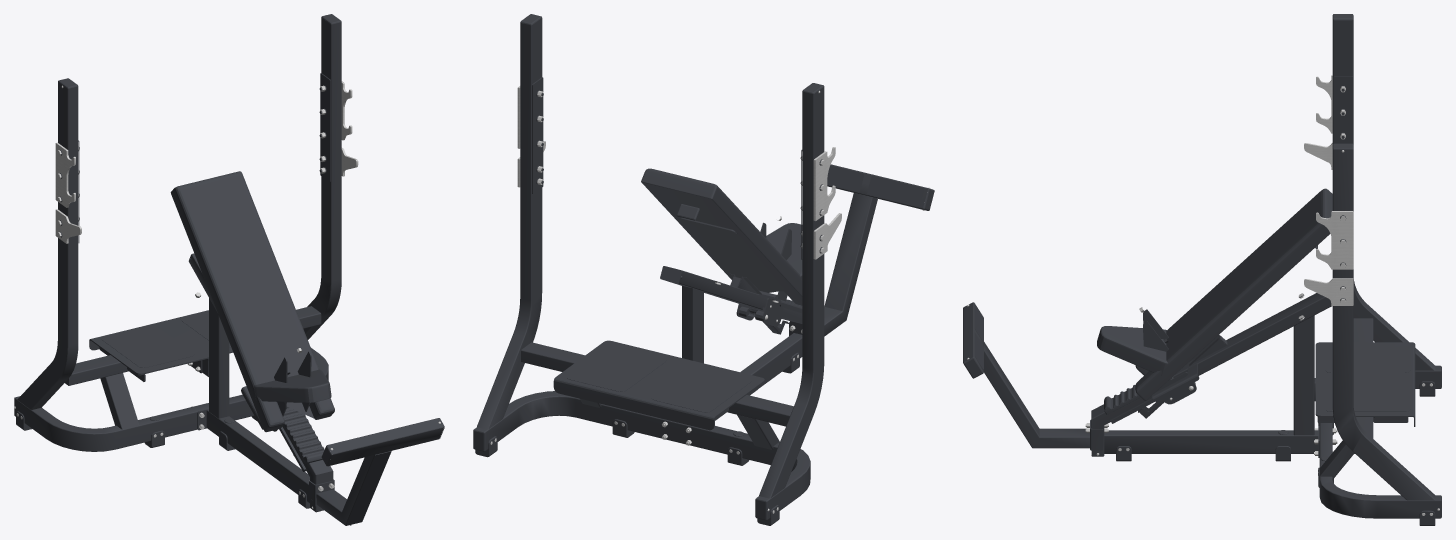
Rendered from olympic-incline-bench-sol.glb.
3 views of the same model, side by side, from view 1: azimuth 30°, elevation 25°; view 2: azimuth 150°, elevation 25°; view 3: azimuth 270°, elevation 25° (orthographic). The views are drawn at different scales.
Visible parts, largest first — view 1: Rack_1, Backrest_7, Rack_0, Rack_3, Seat_7; view 2: Rack_1, Rack_0, Backrest_7, Rack_3, Seat_7; view 3: Rack_1, Backrest_7, Rack_0, Rack_3, Seat_7, Rack_4, Backrest_1.
Boxes of the visible parts, left/top/right/bottom form: Rack_1: left=14, top=18, right=444, bottom=525; Backrest_7: left=170, top=171, right=334, bottom=432; Rack_0: left=14, top=14, right=444, bottom=512; Rack_3: left=14, top=81, right=440, bottom=508; Seat_7: left=254, top=369, right=331, bottom=402; Rack_1: left=474, top=18, right=928, bottom=525; Rack_0: left=473, top=14, right=934, bottom=520; Backrest_7: left=641, top=168, right=802, bottom=305; Rack_3: left=490, top=86, right=930, bottom=513; Seat_7: left=766, top=223, right=802, bottom=279; Rack_1: left=963, top=15, right=1440, bottom=525; Backrest_7: left=1135, top=188, right=1332, bottom=400; Rack_0: left=963, top=14, right=1441, bottom=517; Rack_3: left=967, top=75, right=1439, bottom=515; Seat_7: left=1097, top=326, right=1167, bottom=375; Rack_4: left=1152, top=364, right=1408, bottom=422; Backrest_1: left=1138, top=335, right=1227, bottom=418.
Size of the model in its own units: 1.27 by 1.6 by 1.84.
Materials: 3 (1 with a texture image).
